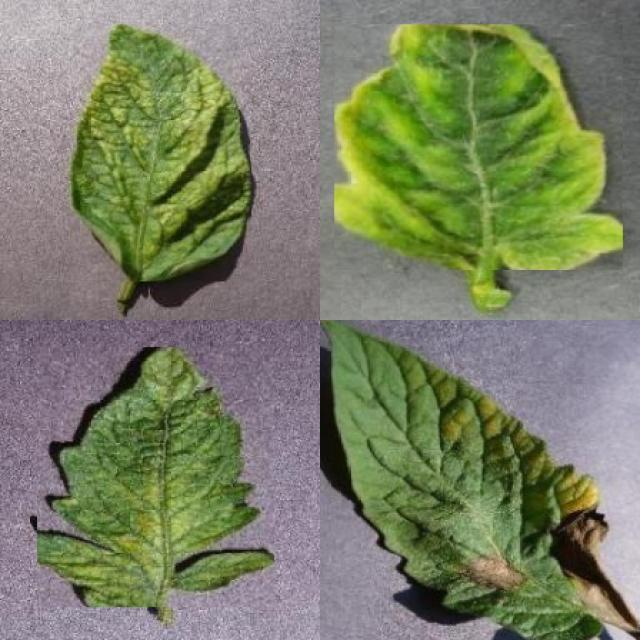Late Blight: (320, 320, 640, 640)
Mosaic Virus: (38, 347, 275, 607)
Spider Mites: (69, 25, 252, 282)
Yellow Leaf Curl Virus: (334, 24, 622, 270)
